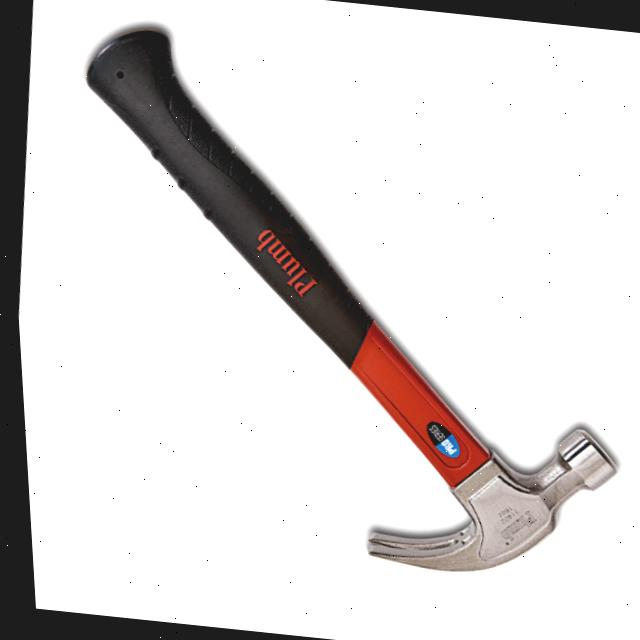hammer: (22, 8, 640, 600)
